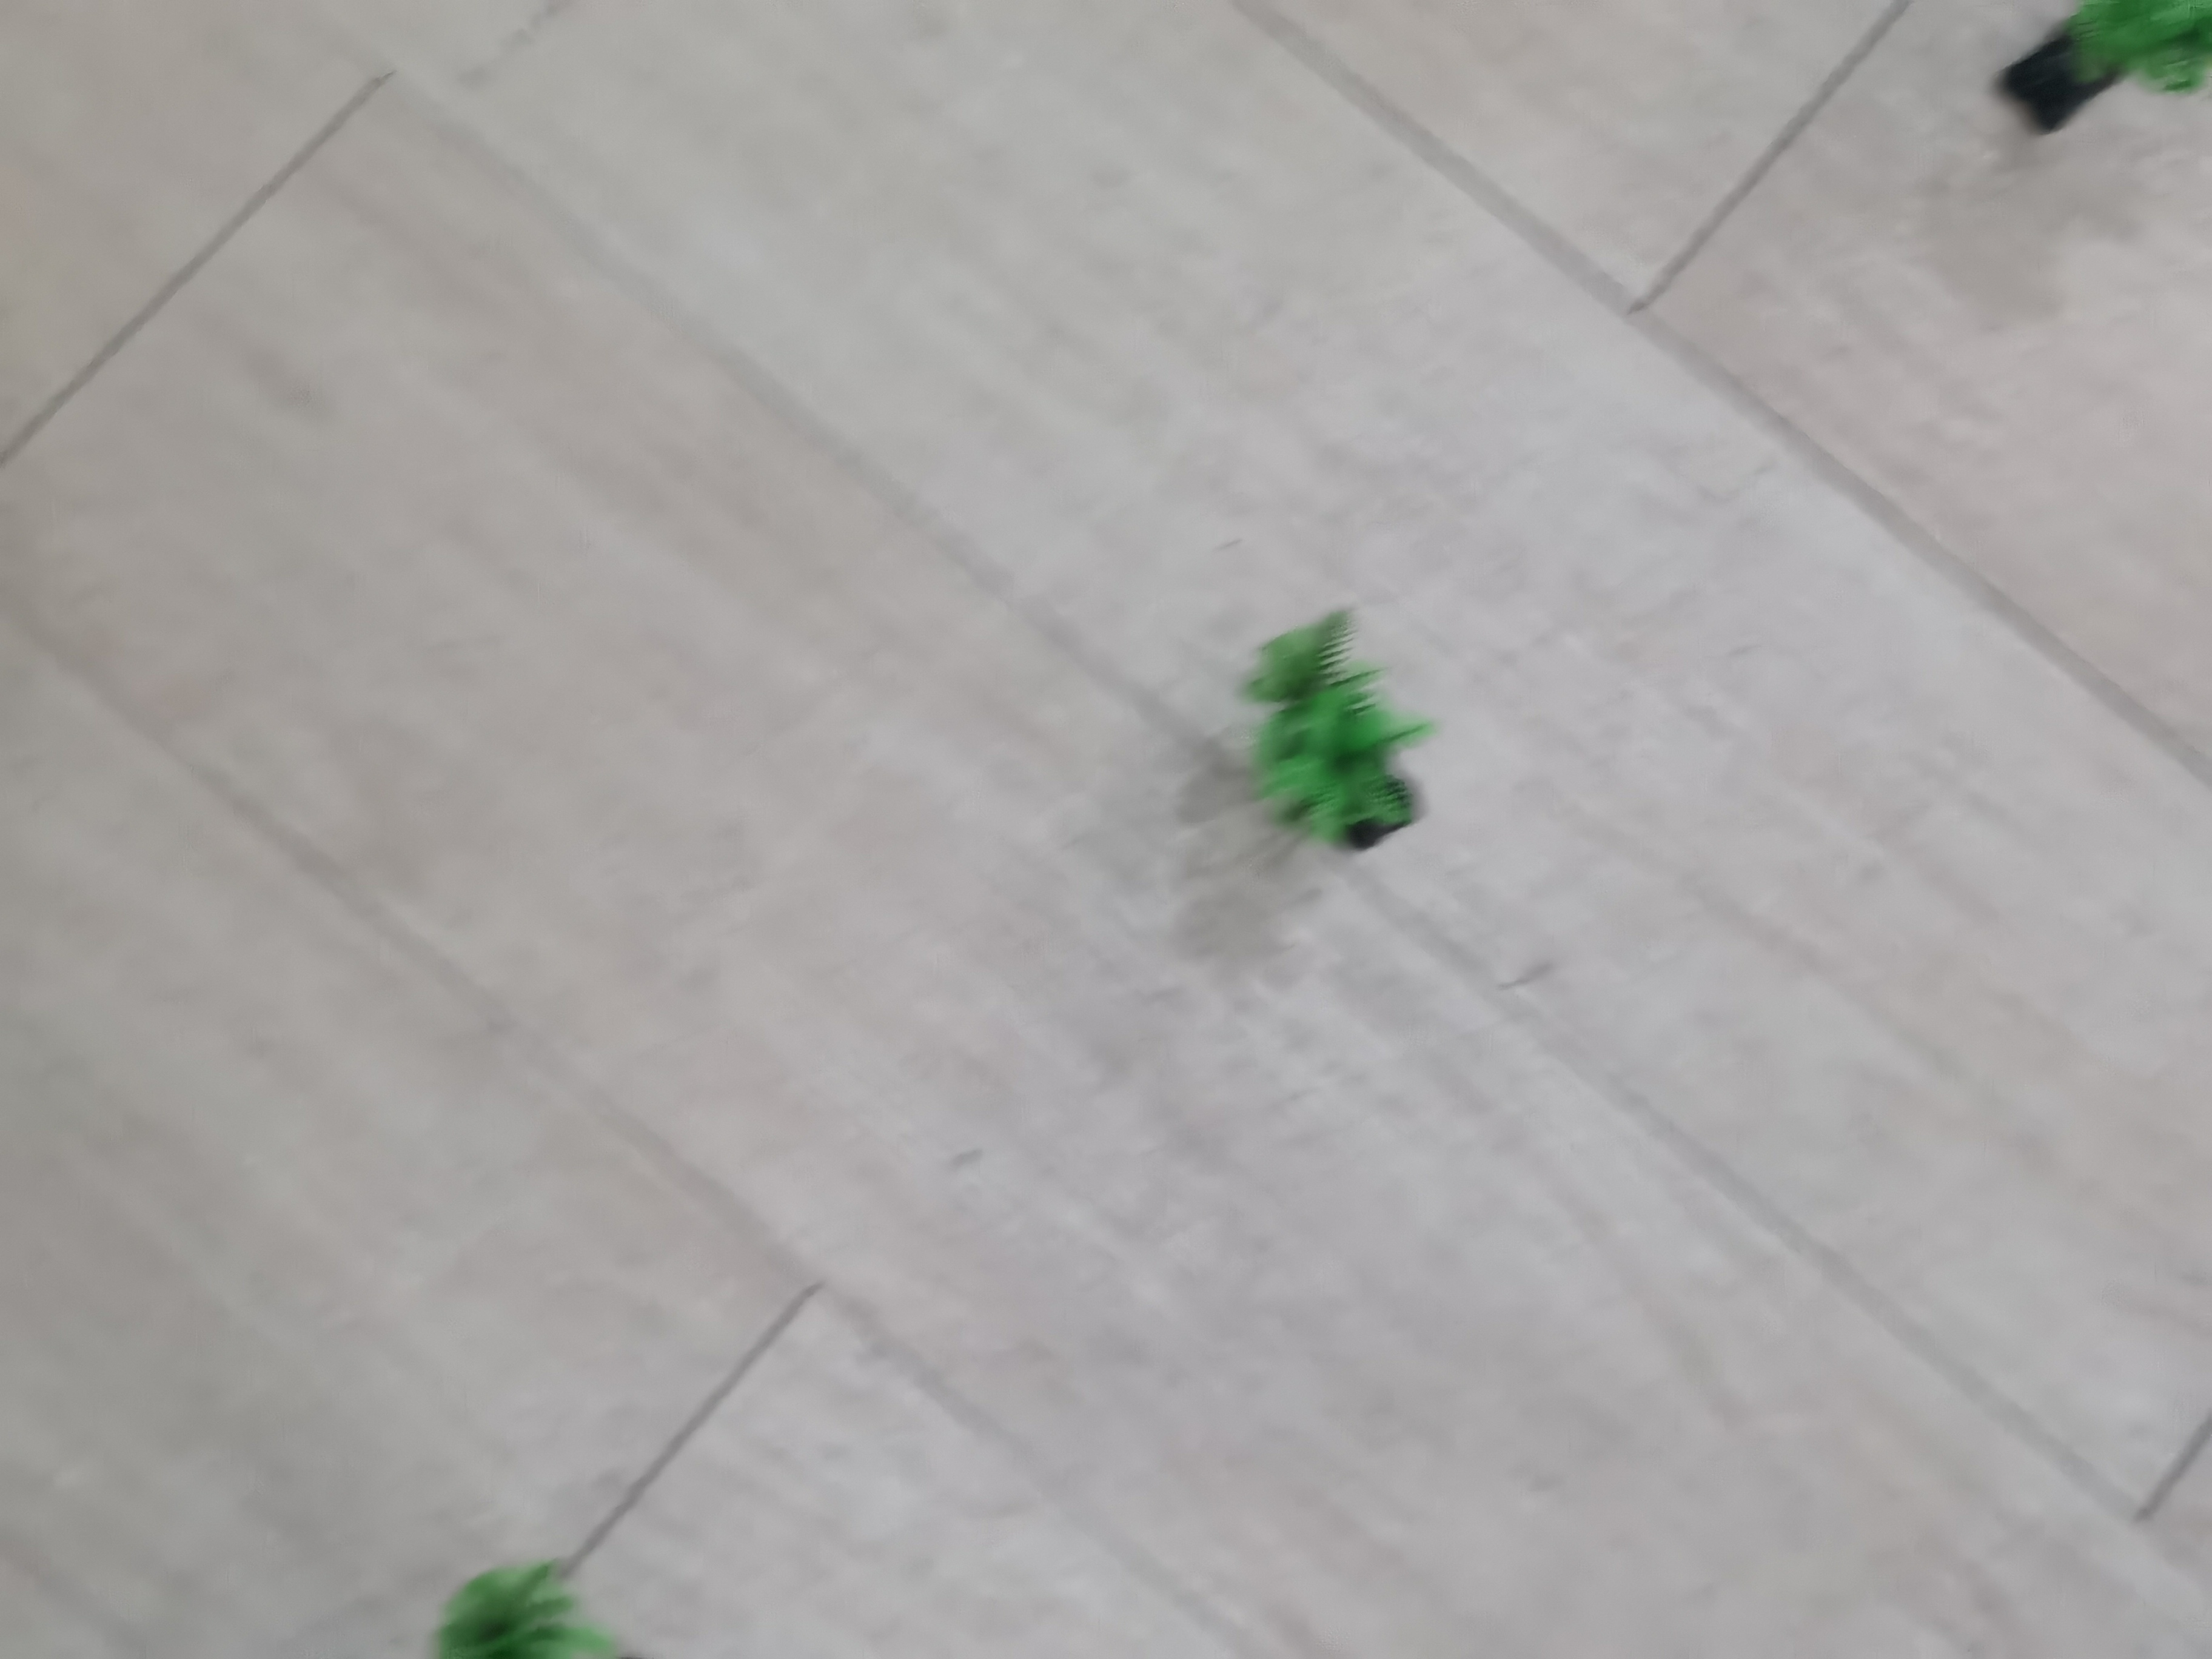corn: (1228, 599, 1432, 871)
